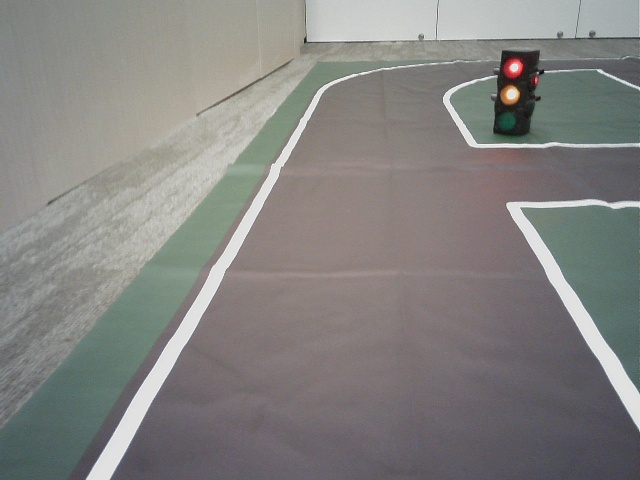red: (497, 55, 522, 128)
